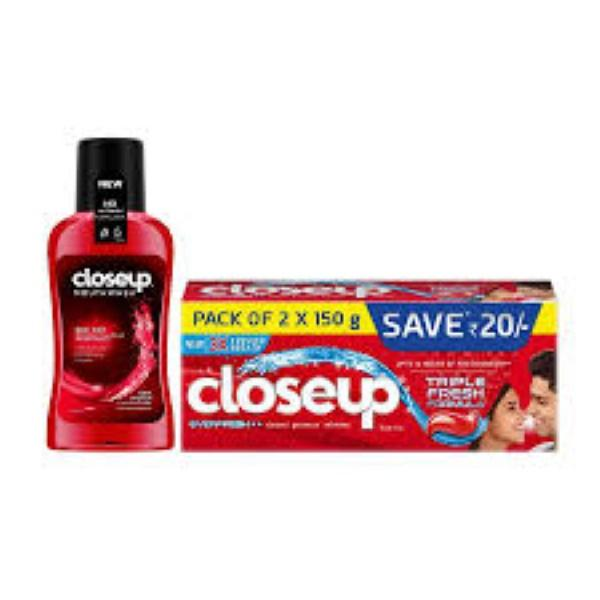CloseUp: (185, 264, 559, 470)
